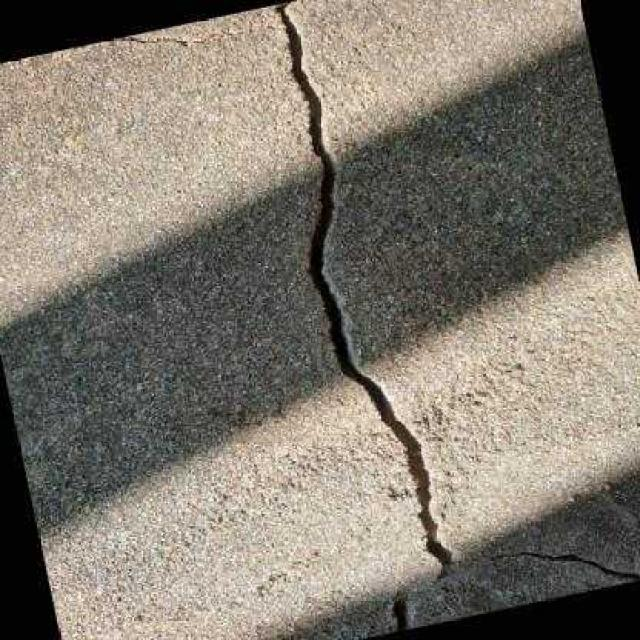D00: (273, 0, 451, 581), (458, 550, 640, 580)
